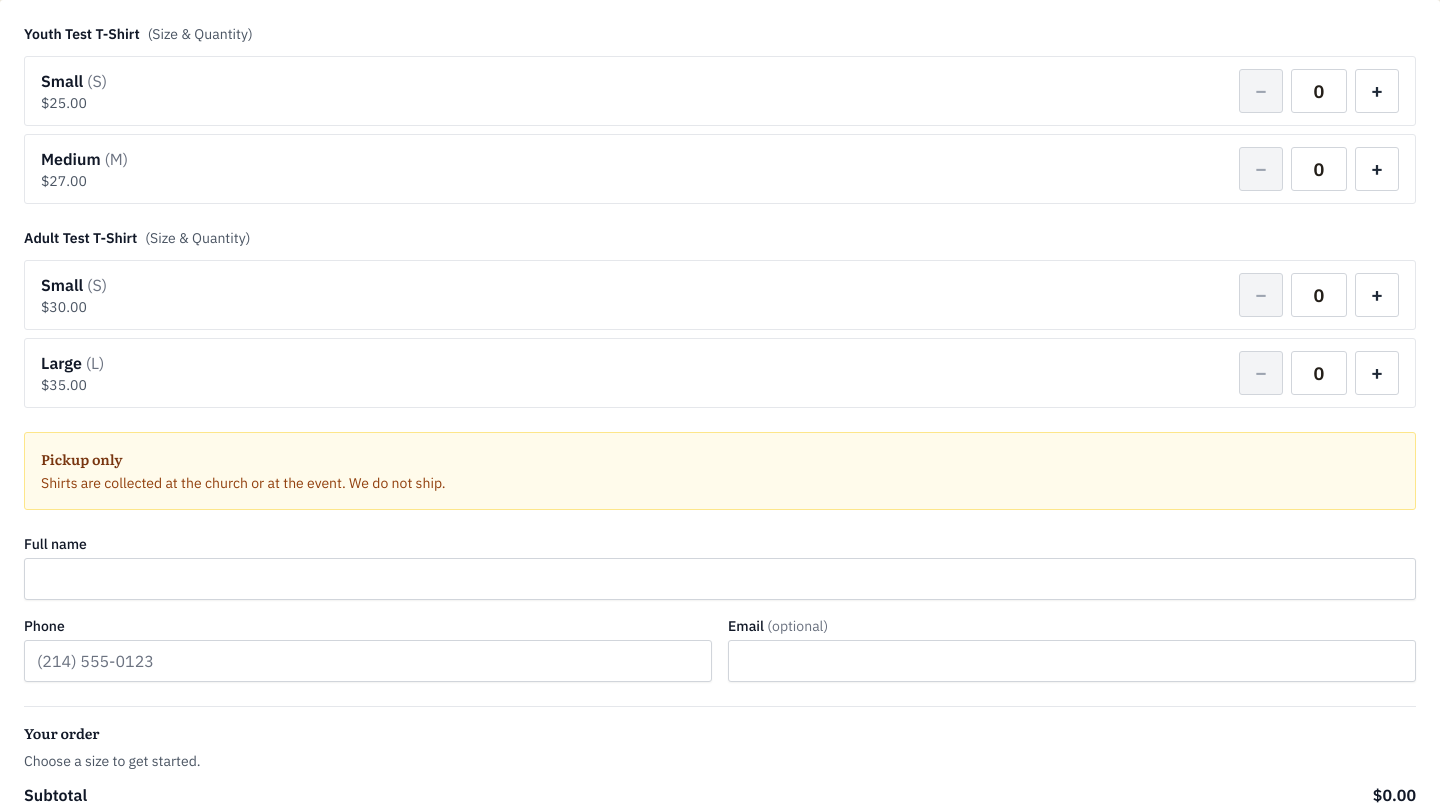
Scenario: ShirtOrderForm — stepper and stock › adds and removes one at a time with the + and − buttons
The width and height of the screenshot is (1440, 810).
Click the button "+" in the row of "$25.00". click: coordinates (1377, 91)
box: [1355,69,1399,113]
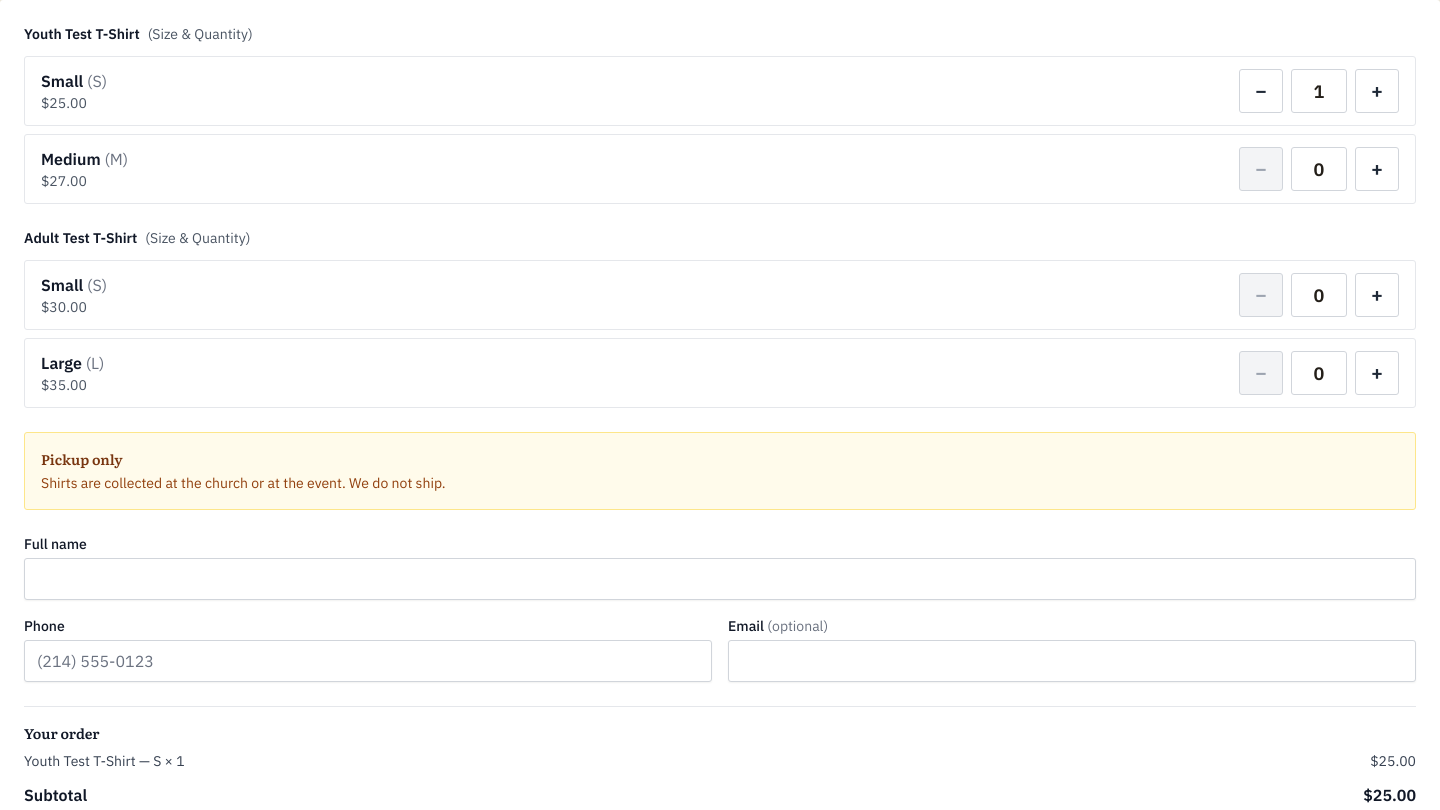
Click the 1st button "+". click: coordinates (1377, 91)
box: [1355,69,1399,113]
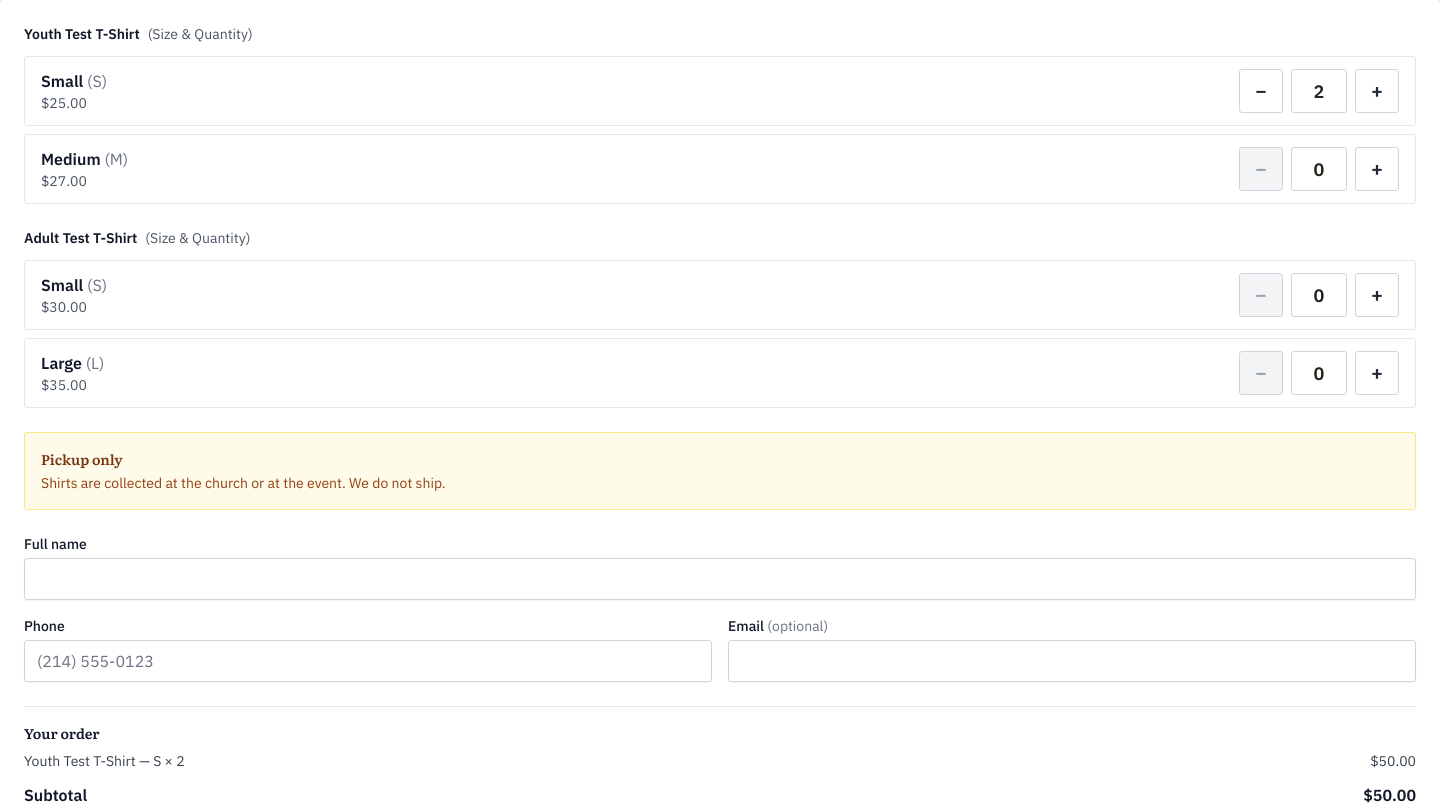
Click the button "−" in the row of "$25.00". click: coordinates (1261, 91)
box: [1239,69,1283,113]
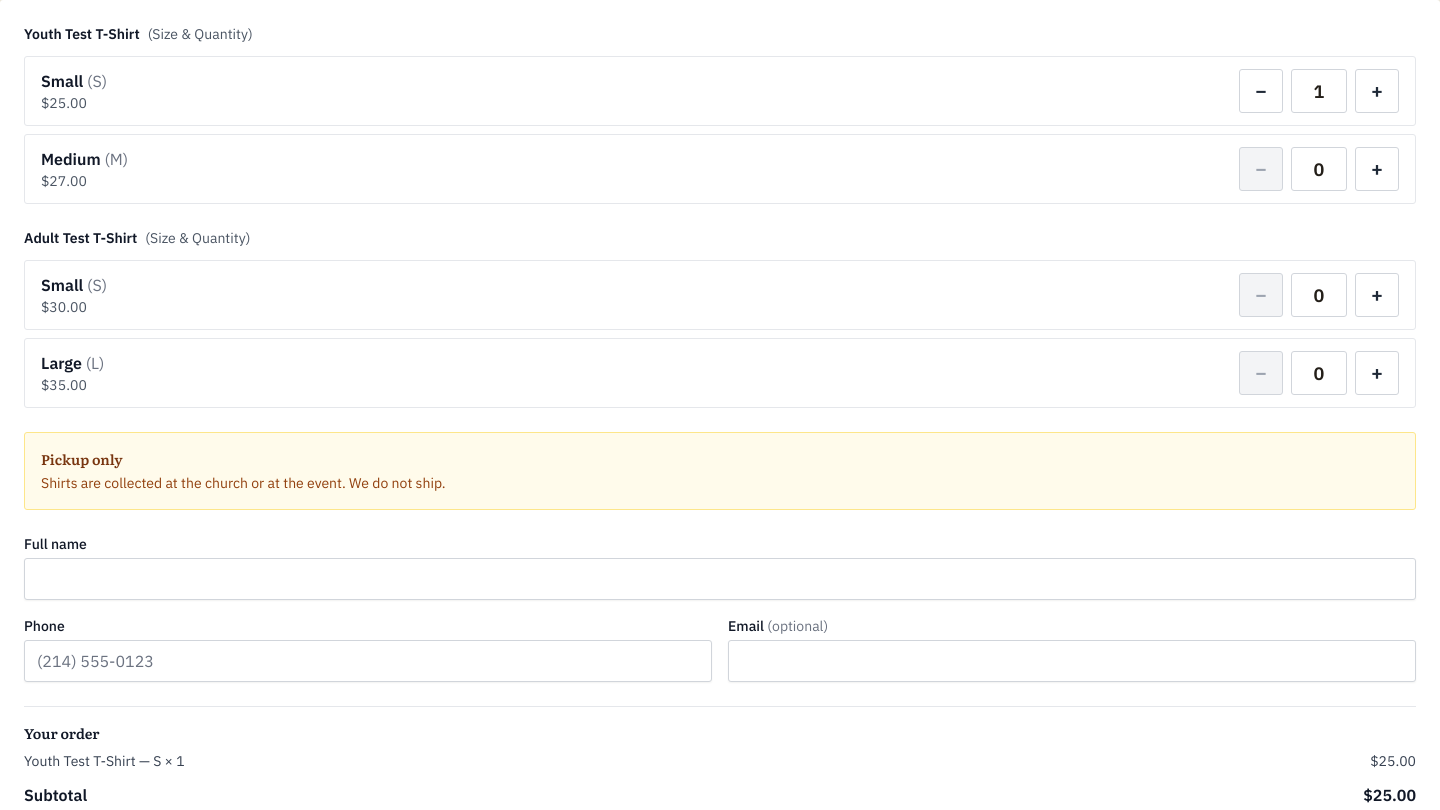
Now the text with test id "merch-subtotal" reads "$25.00", box [1363,785,1416,805]
